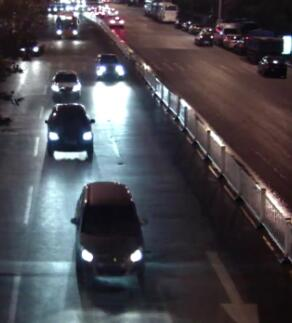bus: (153, 0, 180, 27), (55, 12, 79, 40)
car: (67, 177, 150, 288), (41, 99, 98, 160), (91, 49, 127, 82), (48, 68, 83, 100), (255, 50, 289, 81), (16, 33, 42, 57), (224, 30, 250, 48), (193, 31, 217, 45), (217, 23, 233, 44), (107, 13, 124, 27)
